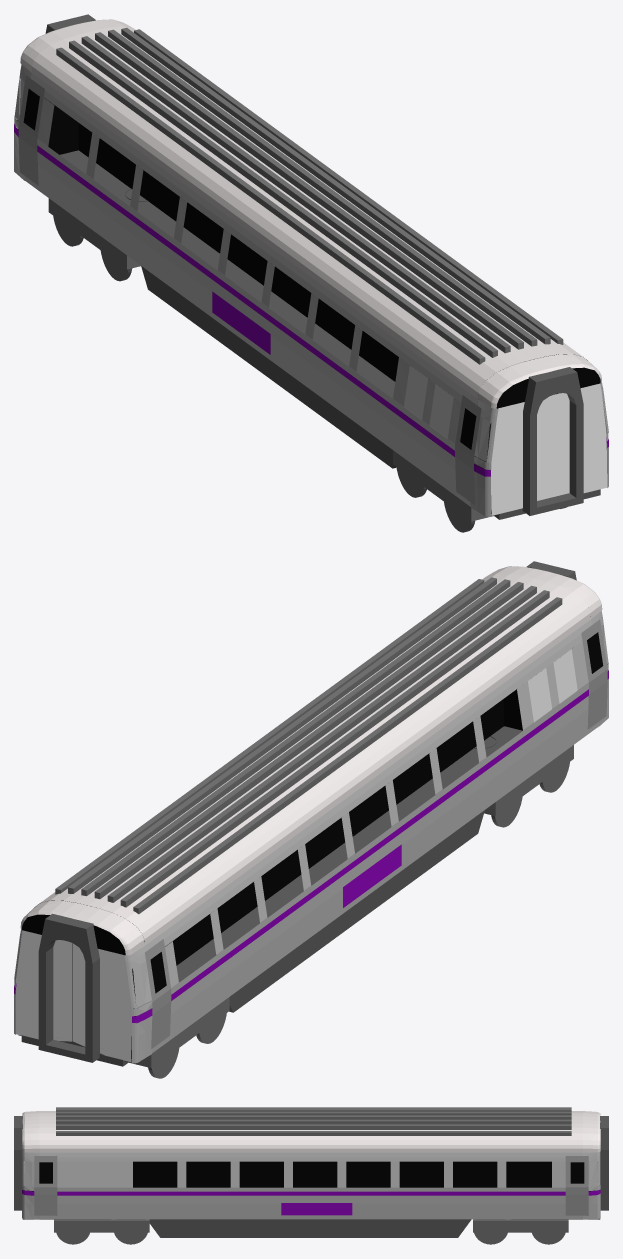
3 views of the same model, one above another, from view 1: azimuth 30°, elevation 25°; view 2: azimuth 150°, elevation 25°; view 3: azimuth 270°, elevation 25° (orthographic). The views are drawn at different scales.
Parts seen in each view (by area): view 1: Suzanne_001, Plane_134, Plane_100, Plane_111, Plane_002, Cube_002, Cube_008, Cube_004, Cube_003, Tube_002, Cube_009, Cube_010 (+17 smaller); view 2: Suzanne_001, Plane_134, Plane_001, Plane_111, Plane_002, Tube_003, Cube_002, Cube_008, Cube_004, Cube_003, Cube_009, Cube (+16 smaller); view 3: Plane_007, Suzanne_001, Plane_111, Cube, Plane_153, Cube_009, Cube_010, Cube_004, Cube_008, Cube_011, Plane_005, Plane_022 (+29 smaller).
Part boxes in pixels (x1=…): Suzanne_001: x1=31, y1=27, x2=587, y2=398; Plane_134: x1=24, y1=152, x2=470, y2=506; Plane_100: x1=491, y1=383, x2=607, y2=515; Plane_111: x1=78, y1=123, x2=398, y2=381; Plane_002: x1=60, y1=150, x2=491, y2=511; Cube_002: x1=69, y1=40, x2=497, y2=357; Cube_008: x1=95, y1=32, x2=523, y2=349; Cube_004: x1=81, y1=36, x2=510, y2=353; Cube_003: x1=56, y1=47, x2=485, y2=364; Tube_002: x1=522, y1=367, x2=583, y2=515; Cube_009: x1=108, y1=29, x2=537, y2=346; Cube_010: x1=121, y1=27, x2=550, y2=344; Suzanne_001: x1=34, y1=573, x2=590, y2=945; Plane_134: x1=152, y1=696, x2=598, y2=1053; Plane_001: x1=15, y1=930, x2=132, y2=1062; Plane_111: x1=72, y1=699, x2=503, y2=1041; Plane_002: x1=59, y1=726, x2=522, y2=1055; Tube_003: x1=38, y1=913, x2=99, y2=1062; Cube_002: x1=120, y1=590, x2=549, y2=907; Cube_008: x1=94, y1=582, x2=523, y2=899; Cube_004: x1=107, y1=585, x2=536, y2=902; Cube_003: x1=133, y1=597, x2=562, y2=914; Cube_009: x1=81, y1=579, x2=510, y2=896; Cube: x1=229, y1=810, x2=484, y2=1012; Plane_007: x1=39, y1=1195, x2=582, y2=1219; Suzanne_001: x1=39, y1=1111, x2=582, y2=1152; Plane_111: x1=24, y1=1161, x2=597, y2=1191; Cube: x1=149, y1=1219, x2=471, y2=1237; Plane_153: x1=39, y1=1152, x2=582, y2=1157; Cube_009: x1=56, y1=1119, x2=571, y2=1124; Cube_010: x1=56, y1=1124, x2=571, y2=1129; Cube_004: x1=56, y1=1111, x2=571, y2=1115; Cube_008: x1=56, y1=1115, x2=571, y2=1119; Cube_011: x1=56, y1=1131, x2=571, y2=1135; Plane_005: x1=57, y1=1191, x2=565, y2=1195; Plane_022: x1=57, y1=1187, x2=565, y2=1191.
Size of the model in its own units: 2.11 by 13.39 by 2.81.
